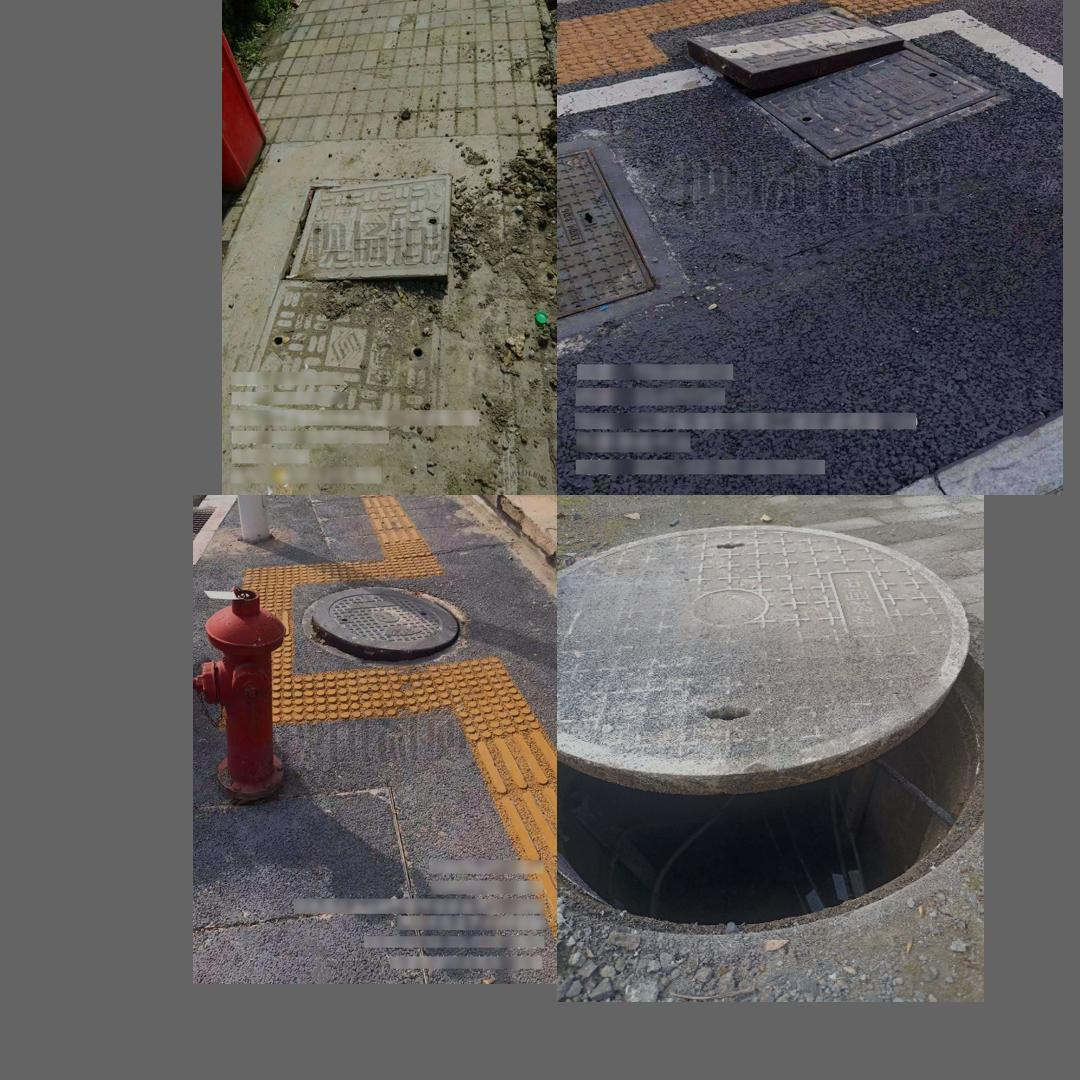uncovered: (561, 544, 961, 936), (236, 174, 452, 446), (680, 7, 1010, 165), (293, 579, 463, 668)
